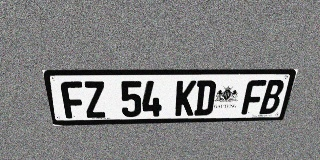4: (142, 81, 162, 117)
5: (121, 81, 142, 117)
B: (259, 80, 286, 114)
D: (194, 80, 217, 116)
F: (60, 81, 86, 118), (241, 80, 267, 114)
K: (175, 80, 197, 116)
Z: (82, 81, 107, 118)
